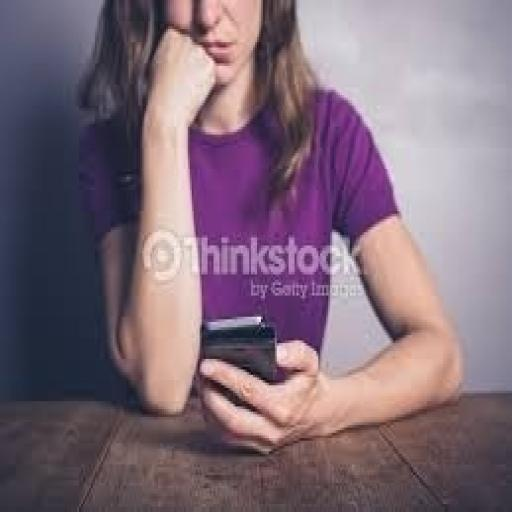texting: (75, 0, 465, 457)
